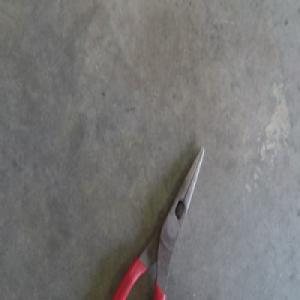Pliers: (113, 141, 205, 299)
